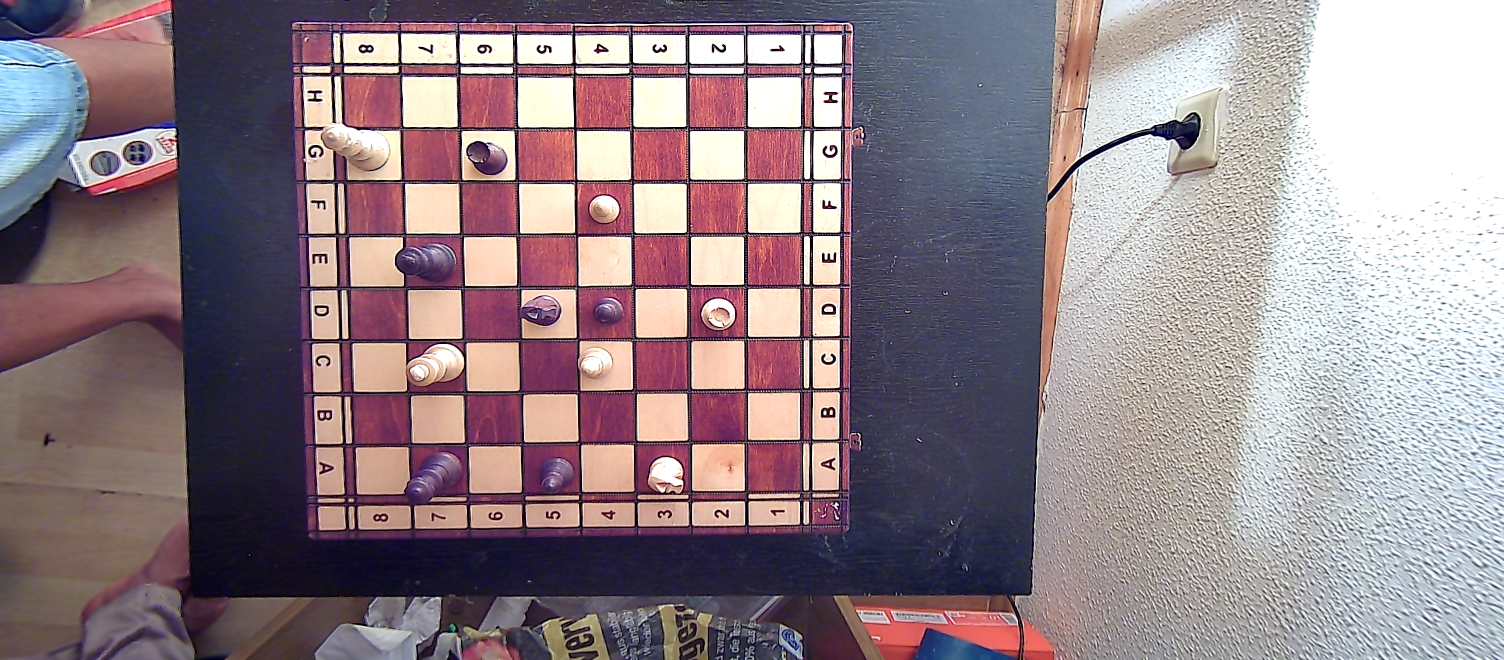black-bishop: (534, 453, 574, 496)
black-king: (393, 241, 457, 285)
black-knight: (516, 292, 563, 328)
black-pawn: (591, 292, 625, 331)
black-queen: (401, 446, 466, 507)
black-rook: (463, 136, 510, 178)
white-bishop: (576, 343, 616, 382)
white-king: (403, 343, 466, 388)
white-knight: (643, 452, 687, 497)
white-pawn: (587, 192, 622, 226)
white-queen: (319, 119, 393, 173)
white-rook: (696, 295, 739, 333)
